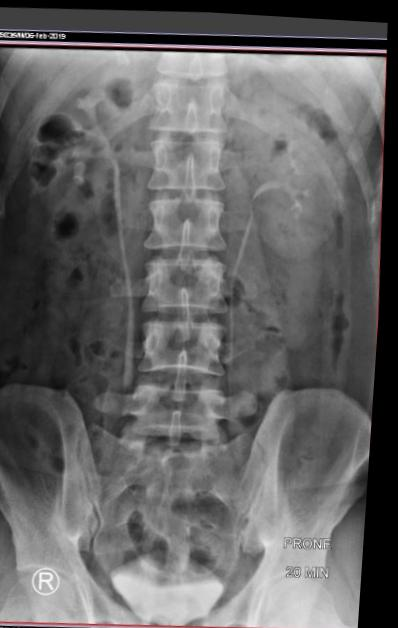bladder: (107, 561, 239, 627)
left kidney: (251, 57, 366, 262)
vertebrae: (153, 118, 234, 188)
